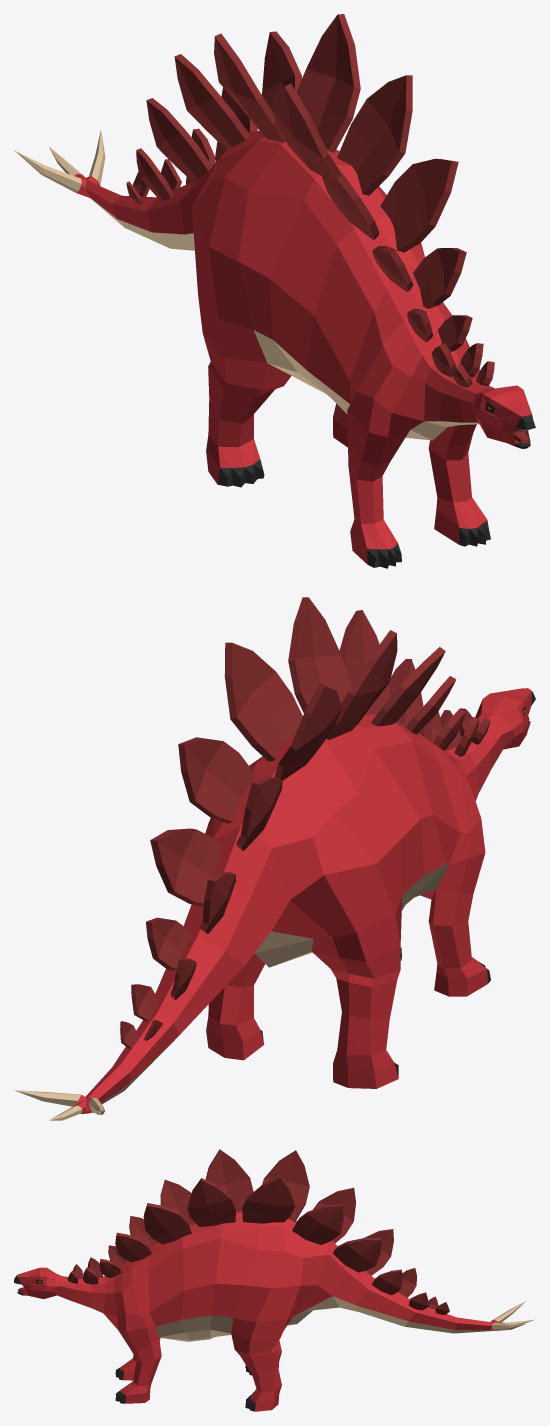
Rendered from animals_stegosaurus.fbx.
3 views of the same model, one above another, from view 1: azimuth 30°, elevation 25°; view 2: azimuth 150°, elevation 25°; view 3: azimuth 270°, elevation 25° (orthographic). The views are drawn at different scales.
Visible parts, largest first — view 1: animals_stegosaurus; view 2: animals_stegosaurus; view 3: animals_stegosaurus.
Part boxes in pixels (x1,y1,x2,y2): animals_stegosaurus: (14,14,535,568); animals_stegosaurus: (15,597,535,1120); animals_stegosaurus: (14,1149,534,1411).
Bounding box in the file's own units: 43.38 × 95.79 × 200.
